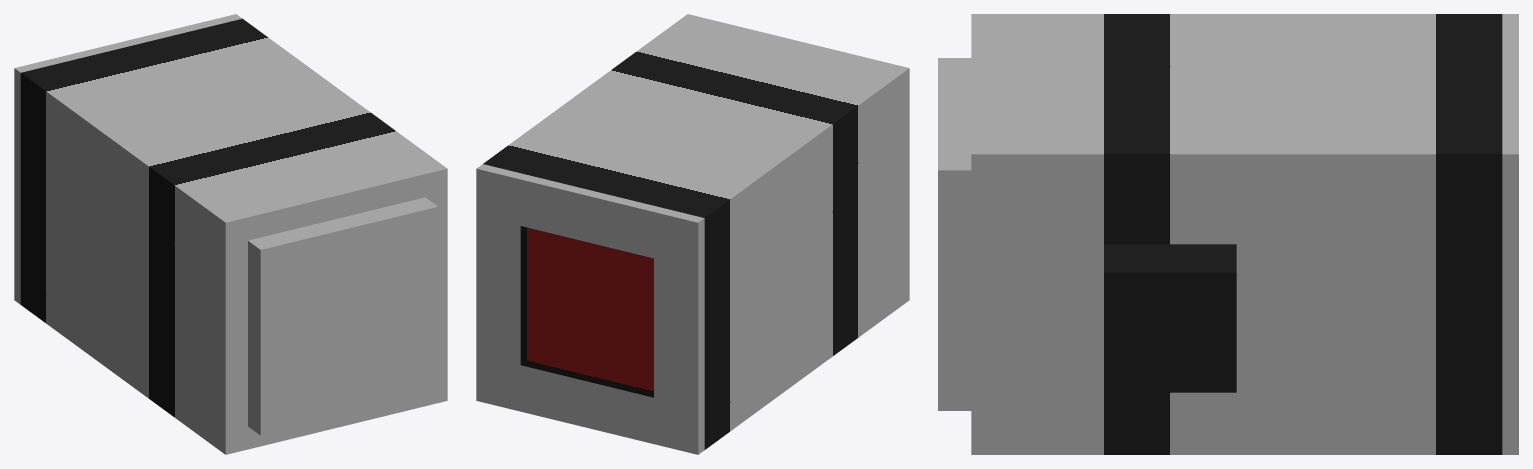
The model's file is camerahead_p2.obj.
3 renders of one model, left to right at view 1: azimuth 30°, elevation 25°; view 2: azimuth 150°, elevation 25°; view 3: azimuth 270°, elevation 25°, orthographic. The views are drawn at different scales.
Visible parts, largest first — view 1: cube; view 2: cube; view 3: cube.
Part boxes in pixels (left/top/right/bottom): cube: left=14, top=14, right=447, bottom=454; cube: left=476, top=14, right=909, bottom=454; cube: left=938, top=14, right=1518, bottom=454.
Bounding box in the file's own units: 0.375 × 0.3125 × 0.5469.
